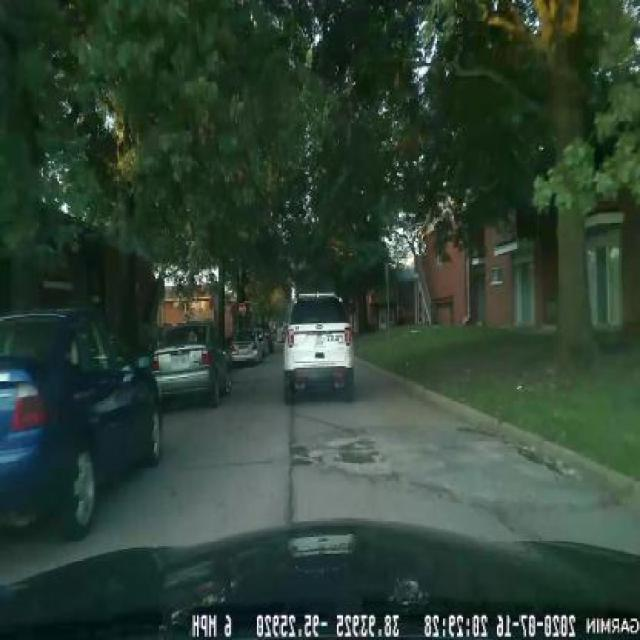pothole: (330, 424, 387, 486), (283, 433, 322, 479)
